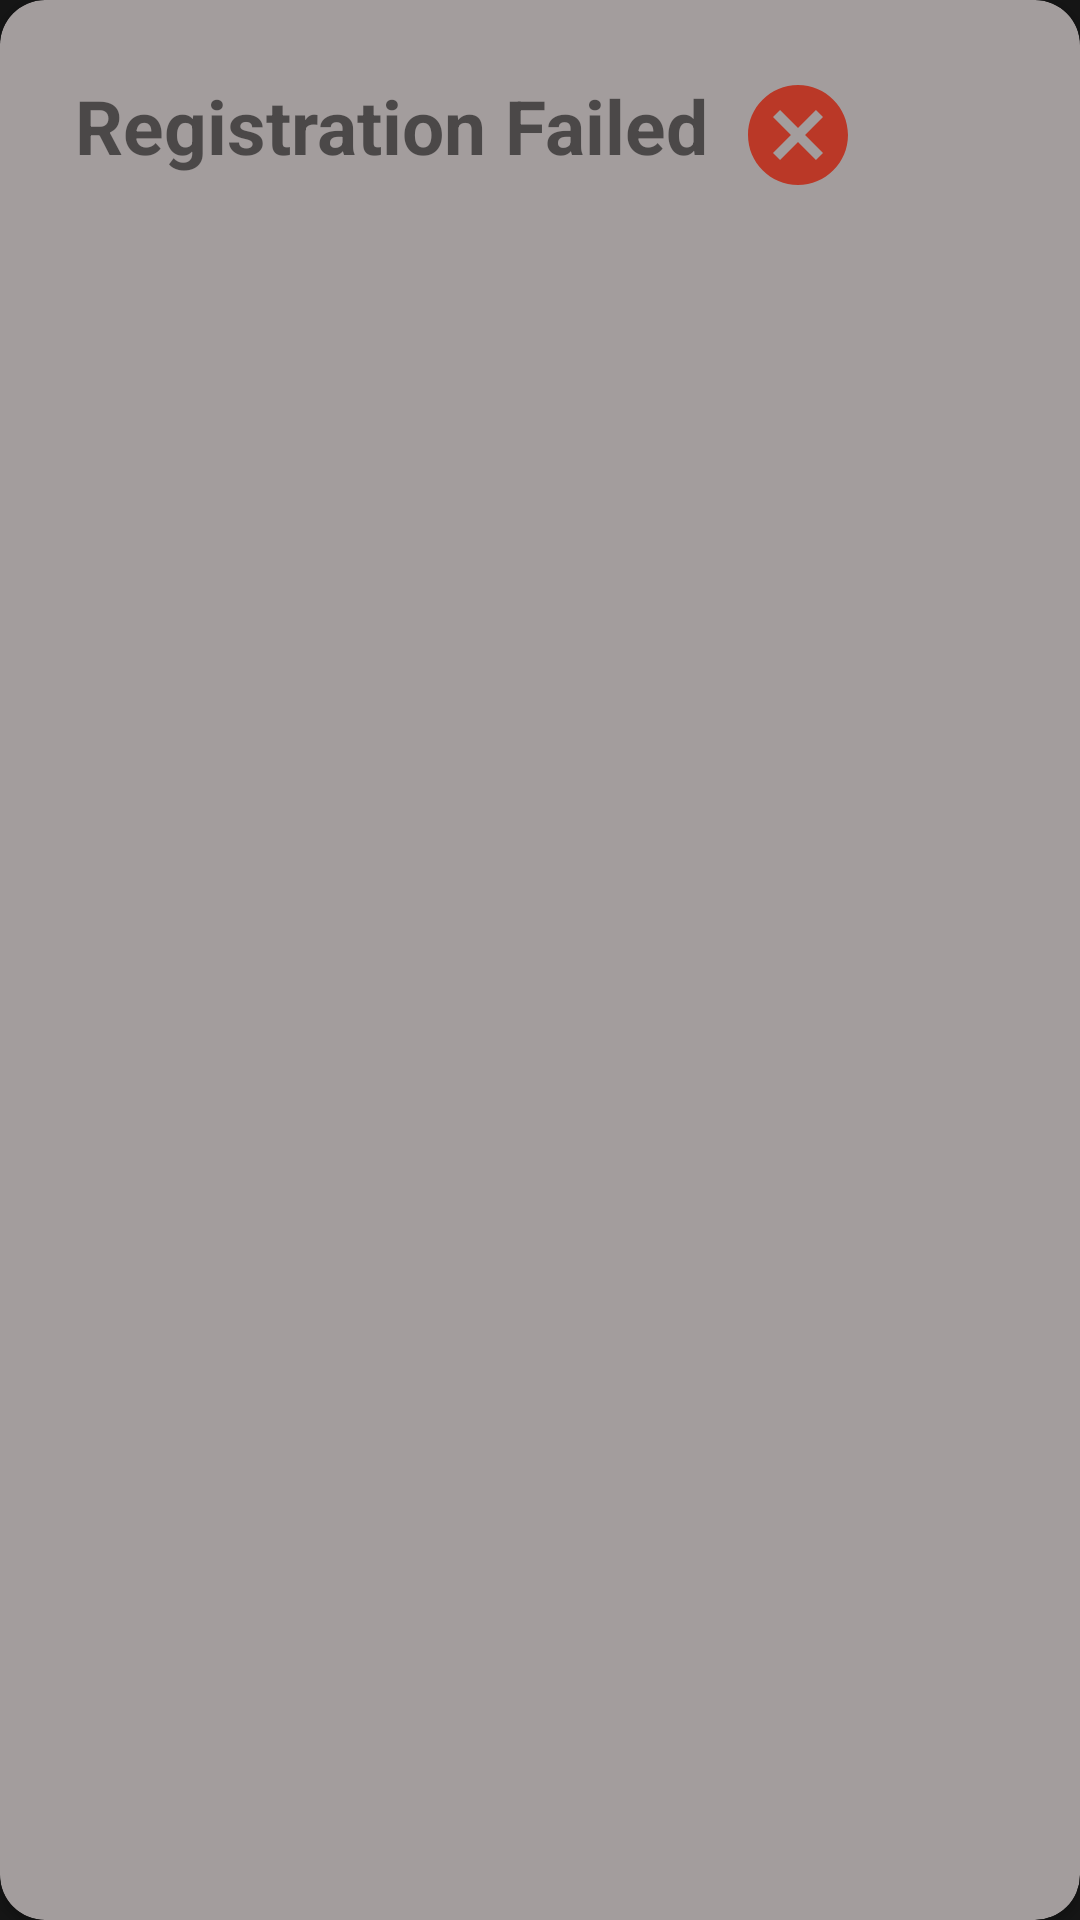

Screen size 1080px x 1920px. Icon name, then its box in pixels as (x1, y1, x2, y2):
cancel: (748, 85, 848, 185)
